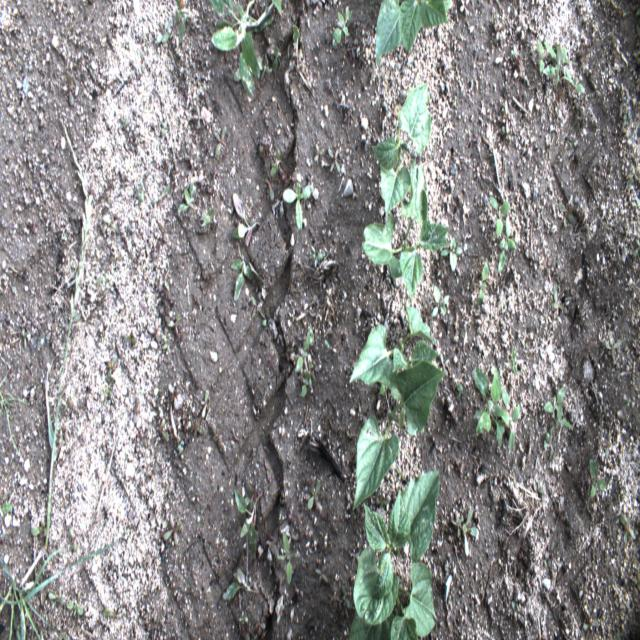crop: (347, 469, 439, 639), (360, 168, 462, 302), (351, 365, 445, 510), (370, 80, 433, 215), (350, 305, 438, 397), (211, 0, 281, 98), (375, 0, 452, 68), (472, 367, 505, 448), (235, 490, 259, 559), (230, 194, 262, 244), (501, 390, 521, 456), (230, 255, 255, 302), (287, 26, 301, 74)
weed: (46, 123, 92, 544), (1, 538, 124, 640), (1, 362, 26, 456), (282, 180, 314, 234), (536, 40, 569, 84), (544, 384, 574, 428), (457, 507, 480, 563), (279, 530, 300, 586), (496, 220, 517, 276), (296, 325, 315, 374), (489, 195, 509, 240), (588, 457, 608, 501), (332, 5, 352, 46), (228, 567, 253, 599), (476, 262, 490, 309), (164, 517, 184, 546), (177, 181, 194, 213), (174, 1, 188, 39), (562, 70, 584, 94), (63, 74, 78, 108), (432, 284, 446, 319), (558, 201, 576, 226), (620, 518, 636, 546), (301, 362, 313, 398), (502, 98, 514, 134), (199, 388, 210, 424), (307, 480, 320, 510), (328, 146, 340, 174), (543, 427, 554, 457), (270, 149, 281, 179), (27, 526, 50, 540), (21, 324, 33, 349), (265, 177, 276, 203), (552, 283, 562, 311), (604, 338, 620, 355), (216, 126, 224, 158), (67, 599, 83, 615), (134, 182, 144, 206), (193, 104, 203, 128), (514, 44, 526, 64), (312, 250, 324, 268), (166, 314, 180, 329), (155, 333, 169, 348), (106, 357, 116, 377), (511, 346, 517, 378), (68, 529, 76, 552), (1, 501, 13, 516), (204, 207, 214, 225), (49, 593, 64, 605), (583, 617, 598, 629), (123, 336, 139, 347), (532, 480, 544, 494), (578, 578, 586, 598), (622, 112, 632, 126), (160, 122, 170, 136), (459, 0, 469, 13), (176, 442, 184, 458), (456, 380, 464, 395), (160, 32, 172, 42), (162, 185, 170, 198), (261, 315, 268, 329), (324, 338, 331, 351), (626, 396, 631, 409), (163, 429, 168, 440)
